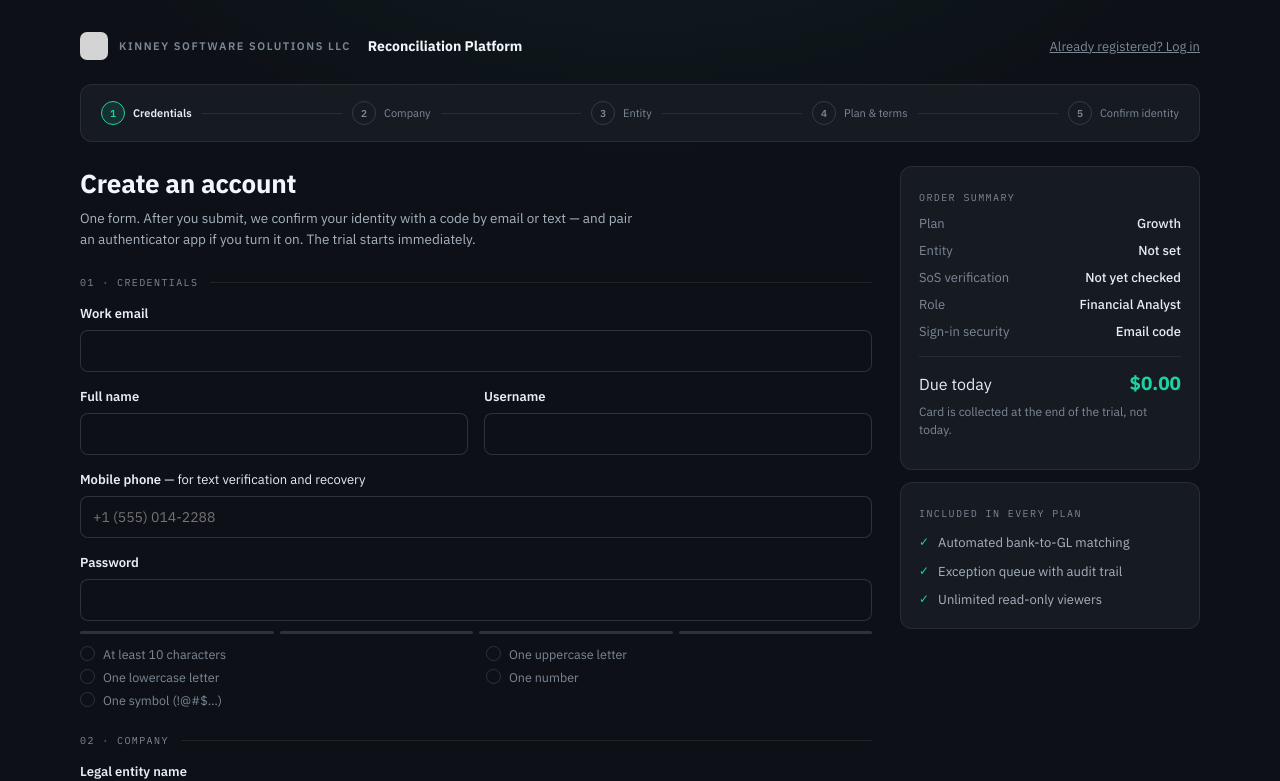
Test: form submission validation › surfaces an invalid-username problem distinct from the required-username problem
The width and height of the screenshot is (1280, 781).
Type "abc" into the field labelled "Username" at (678, 434), box x1=484 y1=413 x2=872 y2=455
(page scrolled)
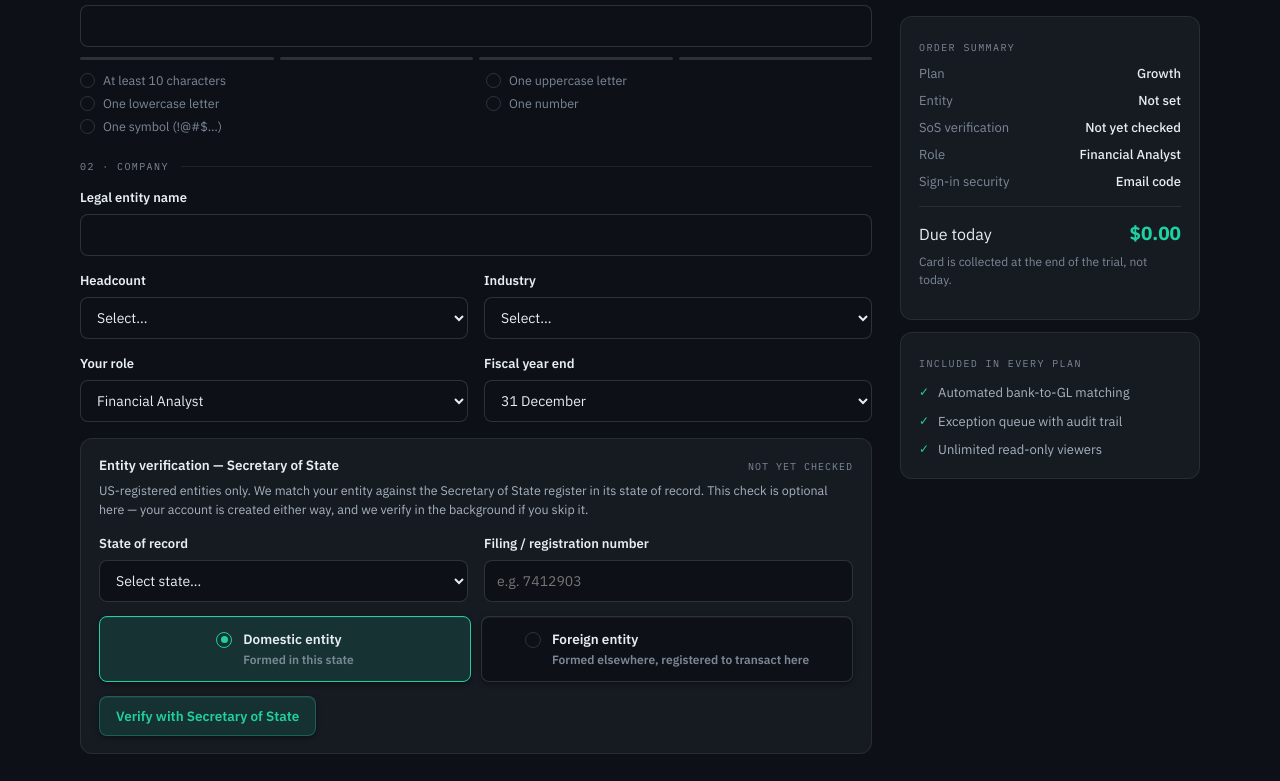
Submit the form named "create account and start trial"
(page scrolled)
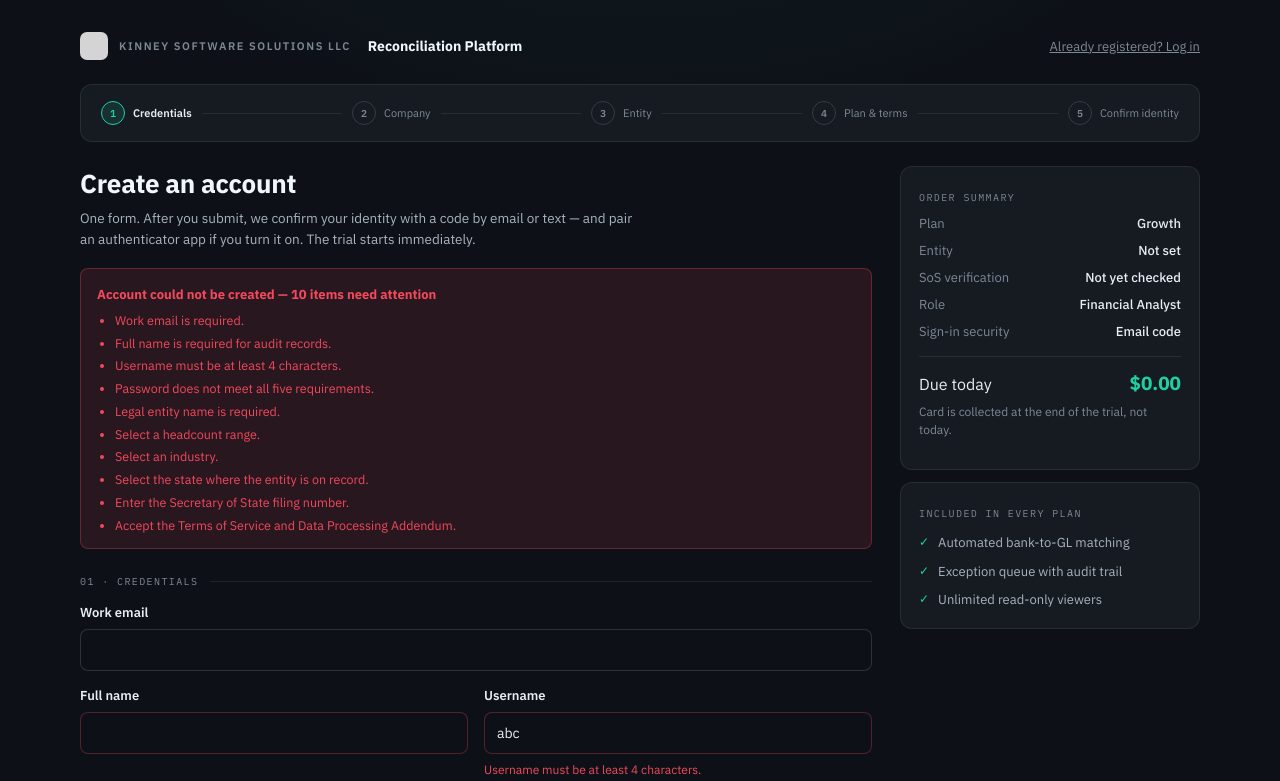
Check: the list item "Username must be at least 4 characters." is shown, box x1=115 y1=357 x2=342 y2=373
